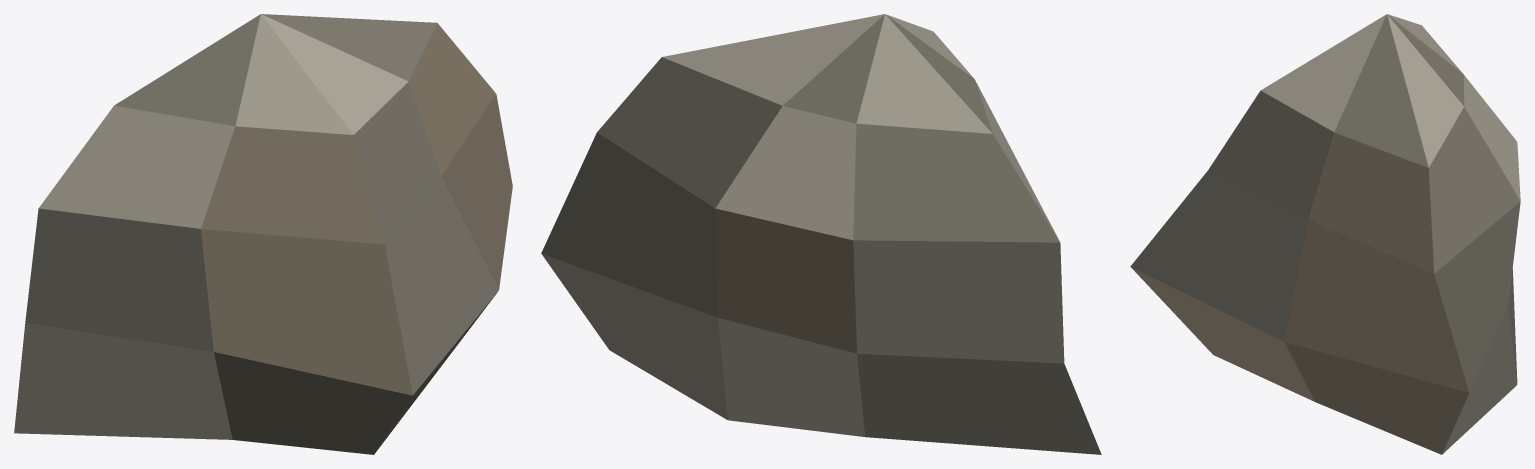
Rendered from river-stone-d.glb.
3 renders of one model, left to right at view 1: azimuth 30°, elevation 25°; view 2: azimuth 150°, elevation 25°; view 3: azimuth 270°, elevation 25°, orthographic. The views are drawn at different scales.
Parts seen in each view (by area): view 1: River_Stone_D; view 2: River_Stone_D; view 3: River_Stone_D.
Boxes of the visible parts, left/top/right/bottom form: River_Stone_D: left=14, top=14, right=512, bottom=454; River_Stone_D: left=541, top=14, right=1101, bottom=454; River_Stone_D: left=1130, top=14, right=1520, bottom=454.
Bounding box in the file's own units: 1.08 × 0.8052 × 0.7689.
Materials: 1 (1 with a texture image).
